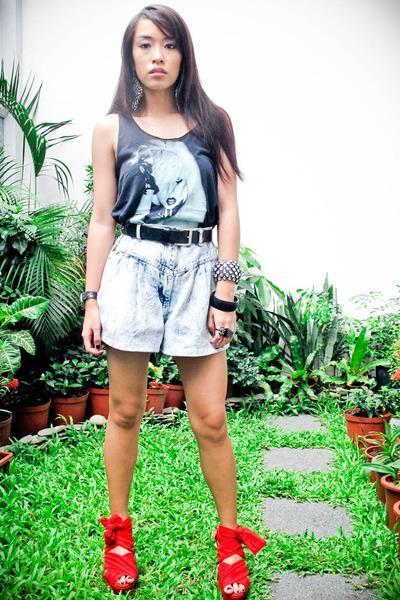Shorts: (85, 223, 236, 358)
vest: (114, 106, 228, 240)
